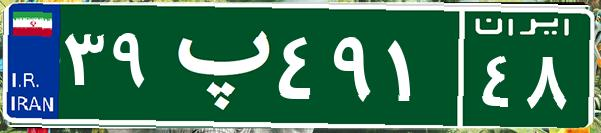1: (385, 28, 445, 110)
3: (57, 26, 110, 107)
4: (273, 28, 330, 110), (475, 38, 525, 113)
8: (525, 38, 570, 115)
9: (330, 28, 385, 110), (110, 28, 158, 105)
پ: (158, 15, 273, 115)
